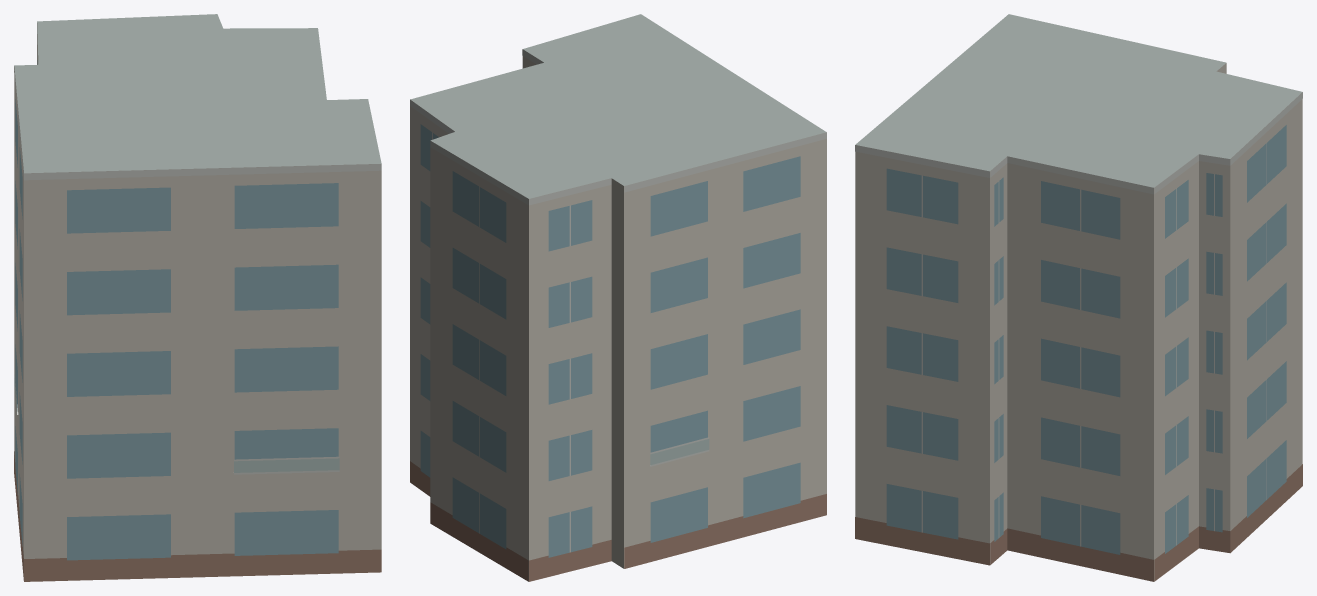
File: survey-upis-32581420.glb
The picture shows the model from 3 angles, left to right: view 1: azimuth 30°, elevation 25°; view 2: azimuth 150°, elevation 25°; view 3: azimuth 270°, elevation 25°; orthographic projection. The views are drawn at different scales.
Parts seen in each view (by area): view 1: survey-upis-32581420.tmp; view 2: survey-upis-32581420.tmp; view 3: survey-upis-32581420.tmp.
Boxes of the visible parts, x1,y1,x2,y2 form: survey-upis-32581420.tmp: (14, 14, 381, 581); survey-upis-32581420.tmp: (410, 14, 826, 581); survey-upis-32581420.tmp: (855, 14, 1302, 581).
Size of the model in its own units: 13.54 by 14.3 by 14.73.
